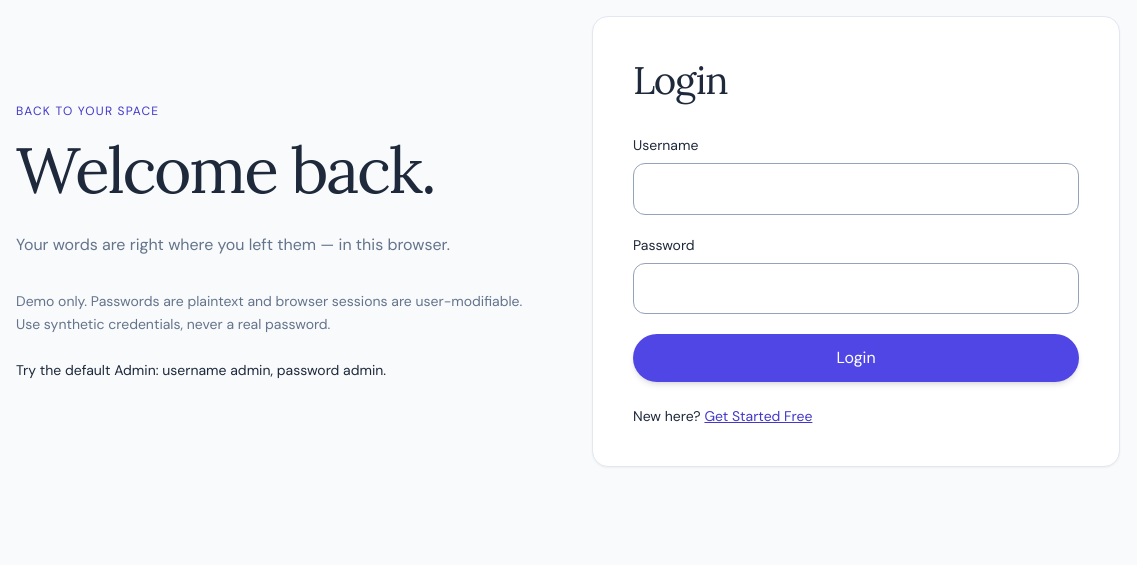
Test: stays on form when session write fails and does not update App identity
The image size is (1137, 565).
Step 1. Type "admin" into the field labelled "Username" → (856, 189), box [633,163,1079,215]
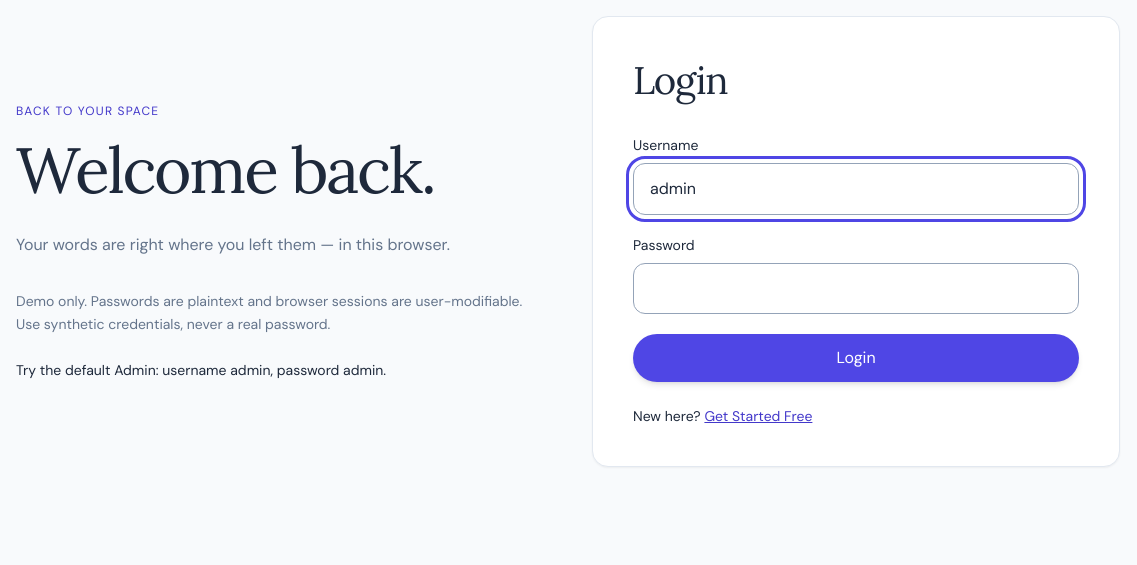
Step 2. Type "admin" into the password field labelled "Password" → (856, 288), box [633,263,1079,314]
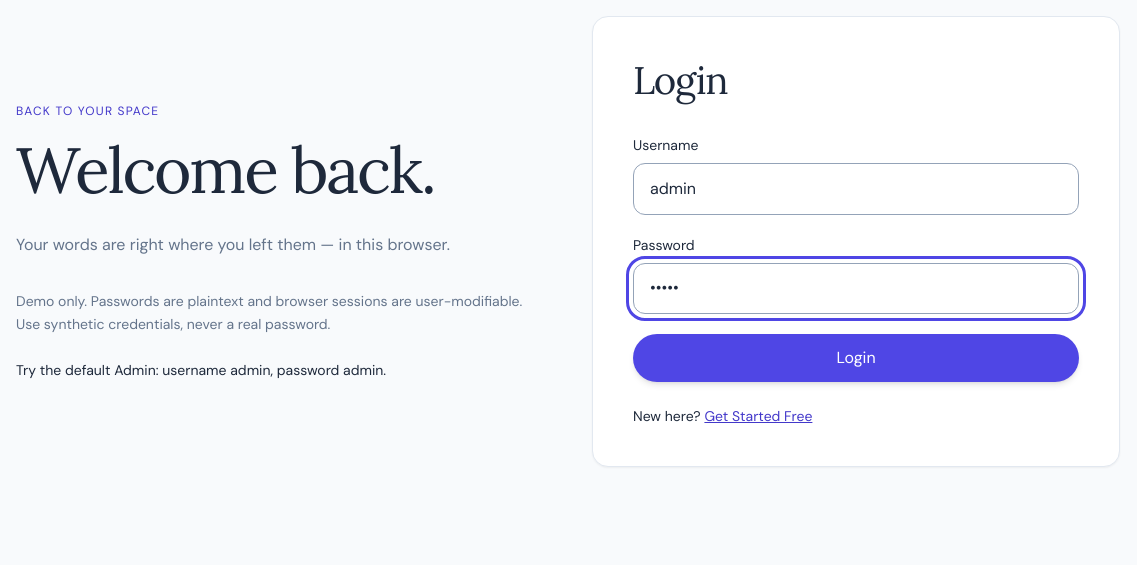
Step 3. Click the button "Login" → (856, 358), box [633,334,1079,382]
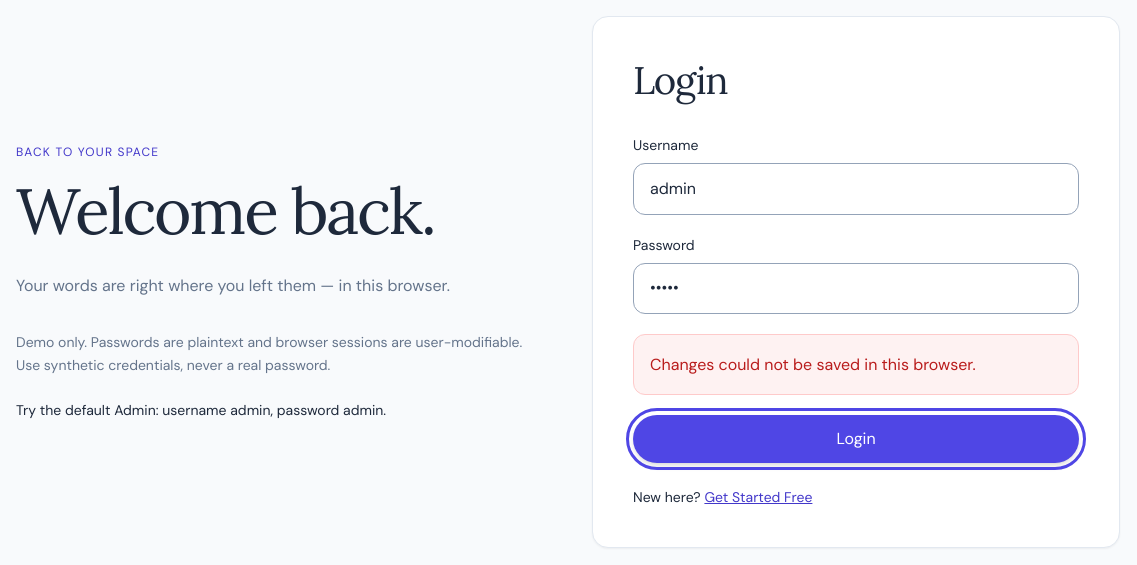
Result: the message reads "Changes could not be saved in this browser." at [650,354,976,375]
